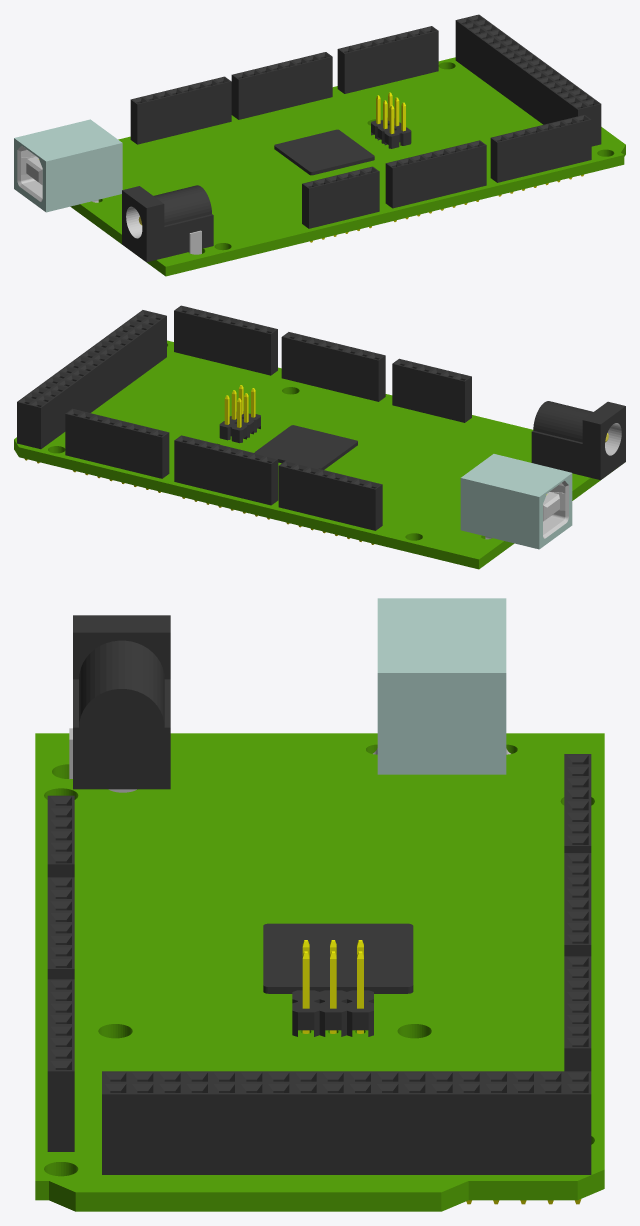
File: arduino_mega.glb
3 renders of one model, top to bottom at view 1: azimuth 30°, elevation 25°; view 2: azimuth 150°, elevation 25°; view 3: azimuth 270°, elevation 25°, orthographic. The views are drawn at different scales.
Parts seen in each view (by area): view 1: Arduino-mega_2, Arduino-mega, Arduino-mega_4, Arduino-mega_1, Arduino-mega_5; view 2: Arduino-mega_2, Arduino-mega, Arduino-mega_4, Arduino-mega_1, Arduino-mega_5; view 3: Arduino-mega, Arduino-mega_2, Arduino-mega_4, Arduino-mega_5.
Part boxes in pixels (<box>): Arduino-mega_2: <box>122,14,601,262</box>; Arduino-mega: <box>70,57,625,276</box>; Arduino-mega_4: <box>14,119,122,212</box>; Arduino-mega_1: <box>17,145,201,254</box>; Arduino-mega_5: <box>38,92,583,242</box>; Arduino-mega_2: <box>17,305,625,530</box>; Arduino-mega: <box>14,340,612,569</box>; Arduino-mega_4: <box>460,454,572,549</box>; Arduino-mega_1: <box>485,423,621,539</box>; Arduino-mega_5: <box>25,385,546,544</box>; Arduino-mega: <box>35,733,604,1211</box>; Arduino-mega_2: <box>47,615,591,1174</box>; Arduino-mega_4: <box>377,598,506,774</box>; Arduino-mega_5: <box>302,940,581,1204</box>.
Size of the model in its own units: 0.1088 by 0.0148 by 0.0532.
